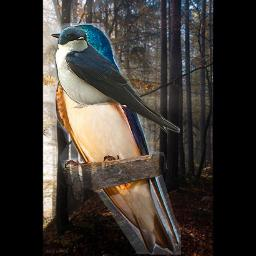Swallow: (50, 23, 181, 255), (55, 26, 180, 133)
